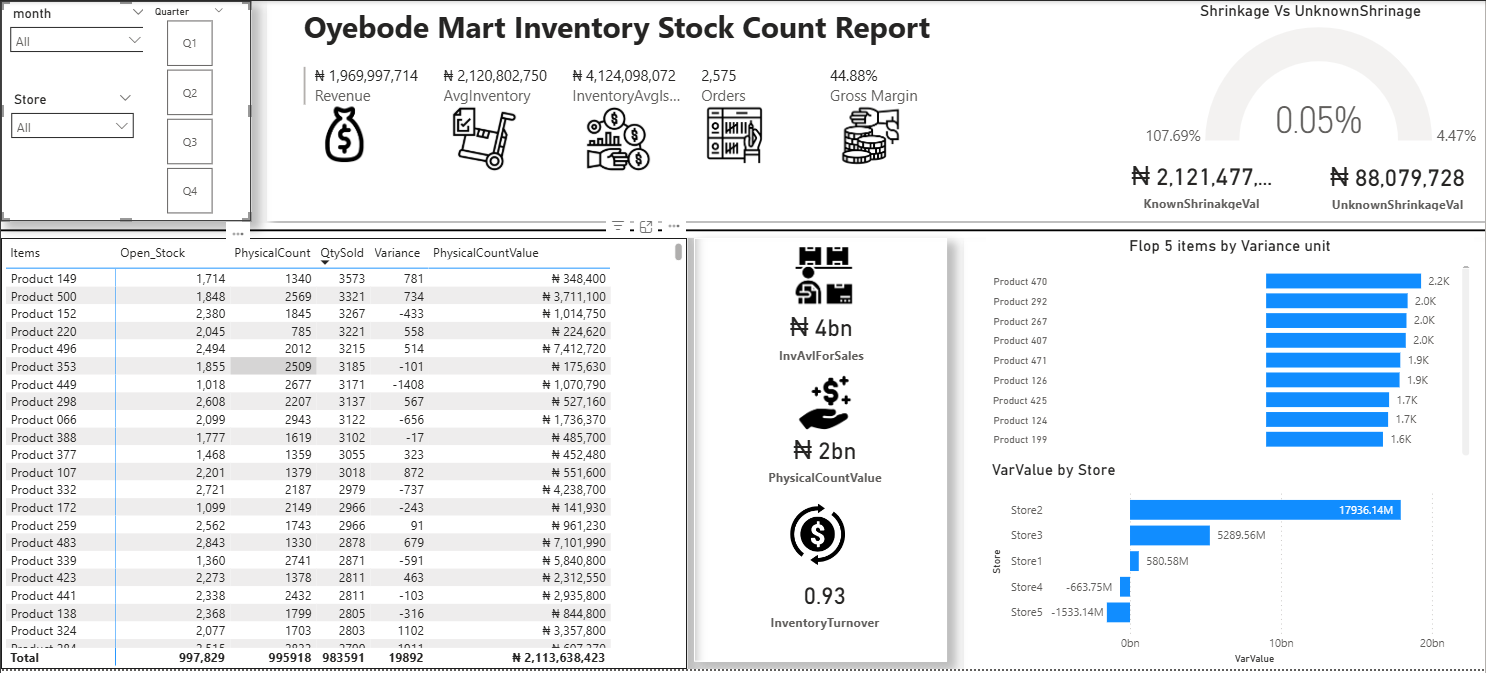

This screenshot's page, from the dashboard's own definition file:
{"tool":"powerbi","page":{"name":"Page 2","canvas":[1600,720],"ordinal":0},"visuals":[{"type":"shape","box":[1038,255.1,562,465.6],"z":0},{"type":"shape","box":[0,246.2,739.9,474.5],"z":1000},{"type":"shape","box":[286.3,0,1313.7,237.1],"z":2000},{"type":"shape","box":[0,0,269.9,237.3],"z":3000},{"type":"multiRowCard","fields":{"Values":["KPI.Revenue","KPI.AvgInventory","KPI.InventoryAvglsales","KPI.Orders","KPI.Gross Margin"]},"box":[321.4,65,716.6,156.3],"z":5000},{"type":"shape","box":[0,238.9,1600,15.8],"z":6000},{"type":"slicer","fields":{"Values":["DateTable.month"]},"box":[0,0,167.2,56.7],"z":7000},{"type":"slicer","fields":{"Values":["Store.Store"]},"box":[1.1,92.7,152,73.3],"z":8000},{"type":"textbox","box":[321.2,0,716.6,71.2],"z":9000},{"type":"gauge","title":"Shrinkage Vs UnknownShrinage","fields":{"MinValue":["KPI.%knownShrinkage"],"MaxValue":["KPI.%unknownShrinkage"],"Y":["KPI.%inventoryLevel"]},"box":[1223.4,0,376.6,164.6],"z":10000},{"type":"card","fields":{"Values":["KPI.Known Shrinakge Value"]},"box":[1211,164.6,166.1,71.2],"z":11000},{"type":"card","fields":{"Values":["KPI.UnknownShrinkageVal"]},"box":[1422.1,166.1,166.1,71.2],"z":12000},{"type":"image","box":[298.1,107.1,145.3,74.1],"z":13000},{"type":"image","box":[458.4,107.1,126.5,84.3],"z":14000},{"type":"image","box":[602.4,107.1,126.5,84.3],"z":15000},{"type":"image","box":[735.9,107.1,108.9,75.5],"z":16000},{"type":"slicer","fields":{"Values":["DateTable.Quarter"]},"box":[152.7,0,99.4,235.8],"z":17000},{"type":"pivotTable","fields":{"Values":["KPI.Open_Stock","KPI.PhysicalCount","KPI.QtySold","KPI.Variance","KPI.PhysicalCountValue"],"Rows":["Product.Items"]},"box":[0,255.1,739.9,465.6],"z":18000},{"type":"shape","box":[747.4,255.1,272.8,456.7],"z":19000},{"type":"image","box":[848.7,252.1,77.1,87.5],"z":20000},{"type":"group","id":"g1","title":"Group 1","box":[795.6,327.7,176.5,362.2],"z":21000},{"type":"card","fields":{"Values":["KPI.InvAvlForSales"]},"box":[795.6,327.7,176.5,72.7],"z":21000,"group":"g1"},{"type":"clusteredBarChart","title":"Flop 5 items by Variance unit","fields":{"Y":["KPI.Variance"],"Category":["Product.Items"]},"box":[1061.7,253.6,526.4,241.7],"z":22000},{"type":"card","fields":{"Values":["KPI.InventoryTurnover"]},"box":[803,615.8,169,74.1],"z":22000,"group":"g1"},{"type":"card","fields":{"Values":["KPI.PhysicalCountValue"]},"box":[803,458.2,169,75.6],"z":23000,"group":"g1"},{"type":"image","box":[853.1,392.9,71.2,78.6],"z":24000,"group":"g1"},{"type":"clusteredBarChart","fields":{"Y":["KPI.VarValue"],"Category":["Store.Store"]},"box":[1062.6,495.3,526.9,224.8],"z":24000},{"type":"image","box":[897.5,107.1,80.8,77.3],"z":25000},{"type":"image","box":[838.3,533.8,83,81.6],"z":25000,"group":"g1"}]}

Visuals, with their boxes on the page's 1600x720 design canvas (x1, y1, x2, y2). These are canvas units, not pixel positions in the 1486x673 screenshot, which may show the page scaled, cropped or inside an application window:
shape: (x1=1038, y1=255, x2=1600, y2=721)
shape: (x1=0, y1=246, x2=740, y2=721)
shape: (x1=286, y1=0, x2=1600, y2=237)
shape: (x1=0, y1=0, x2=270, y2=237)
multiRowCard - KPI.Revenue x KPI.AvgInventory: (x1=321, y1=65, x2=1038, y2=221)
shape: (x1=0, y1=239, x2=1600, y2=255)
slicer - DateTable.month: (x1=0, y1=0, x2=167, y2=57)
slicer - Store.Store: (x1=1, y1=93, x2=153, y2=166)
textbox: (x1=321, y1=0, x2=1038, y2=71)
"Shrinkage Vs UnknownShrinage" gauge: (x1=1223, y1=0, x2=1600, y2=165)
card - KPI.Known Shrinakge Value: (x1=1211, y1=165, x2=1377, y2=236)
card - KPI.UnknownShrinkageVal: (x1=1422, y1=166, x2=1588, y2=237)
image: (x1=298, y1=107, x2=443, y2=181)
image: (x1=458, y1=107, x2=585, y2=191)
image: (x1=602, y1=107, x2=729, y2=191)
image: (x1=736, y1=107, x2=845, y2=183)
slicer - DateTable.Quarter: (x1=153, y1=0, x2=252, y2=236)
pivotTable - KPI.Open_Stock x KPI.PhysicalCount: (x1=0, y1=255, x2=740, y2=721)
shape: (x1=747, y1=255, x2=1020, y2=712)
image: (x1=849, y1=252, x2=926, y2=340)
"Group 1" group: (x1=796, y1=328, x2=972, y2=690)
card - KPI.InvAvlForSales: (x1=796, y1=328, x2=972, y2=400)
"Flop 5 items by Variance unit" clusteredBarChart: (x1=1062, y1=254, x2=1588, y2=495)
card - KPI.InventoryTurnover: (x1=803, y1=616, x2=972, y2=690)
card - KPI.PhysicalCountValue: (x1=803, y1=458, x2=972, y2=534)
image: (x1=853, y1=393, x2=924, y2=472)
clusteredBarChart - KPI.VarValue x Store.Store: (x1=1063, y1=495, x2=1590, y2=720)
image: (x1=898, y1=107, x2=978, y2=184)
image: (x1=838, y1=534, x2=921, y2=615)
